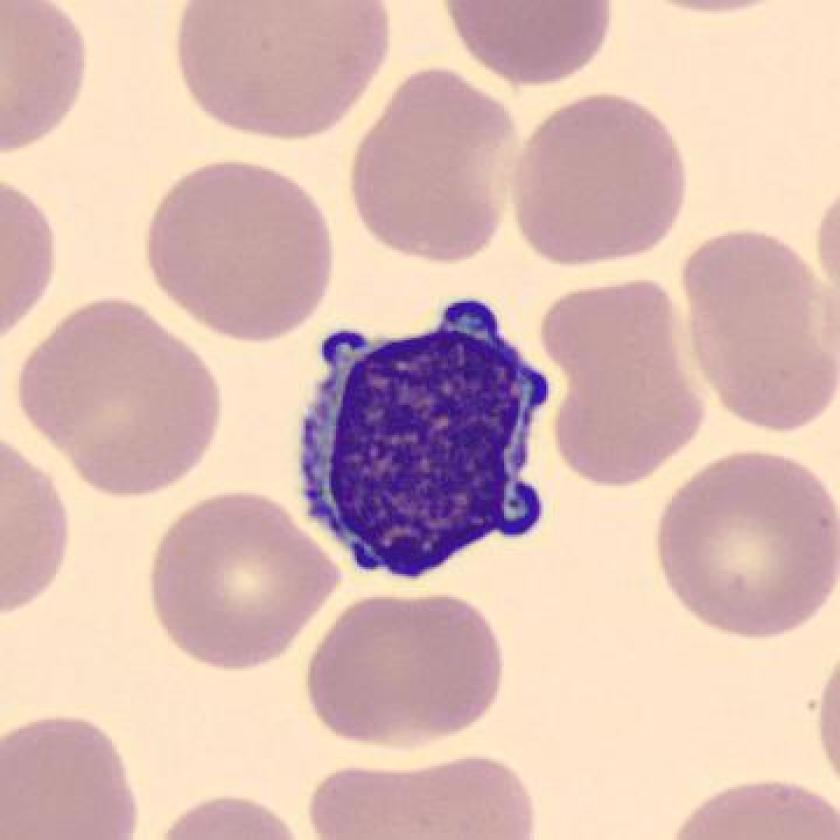lymphocyte: (286, 286, 563, 589)
